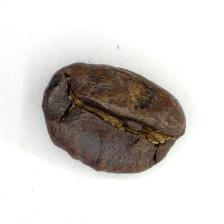NG: (44, 72, 160, 159)
